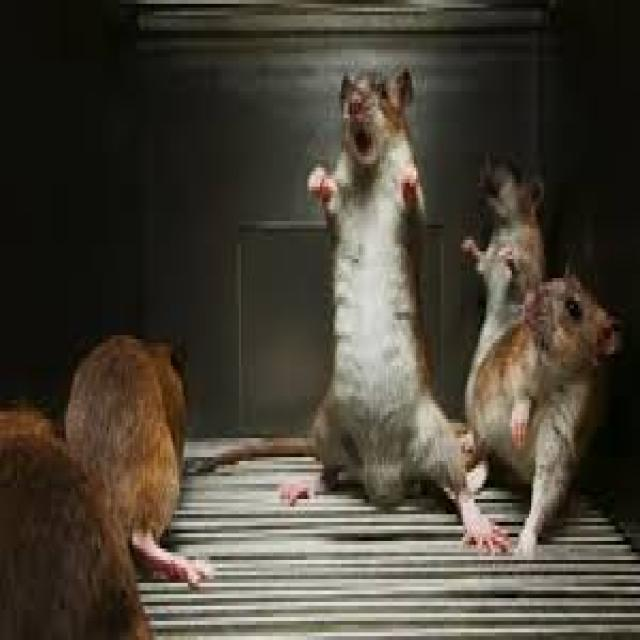rat: (298, 65, 465, 578), (62, 309, 230, 594), (470, 279, 622, 561), (454, 138, 547, 358)
